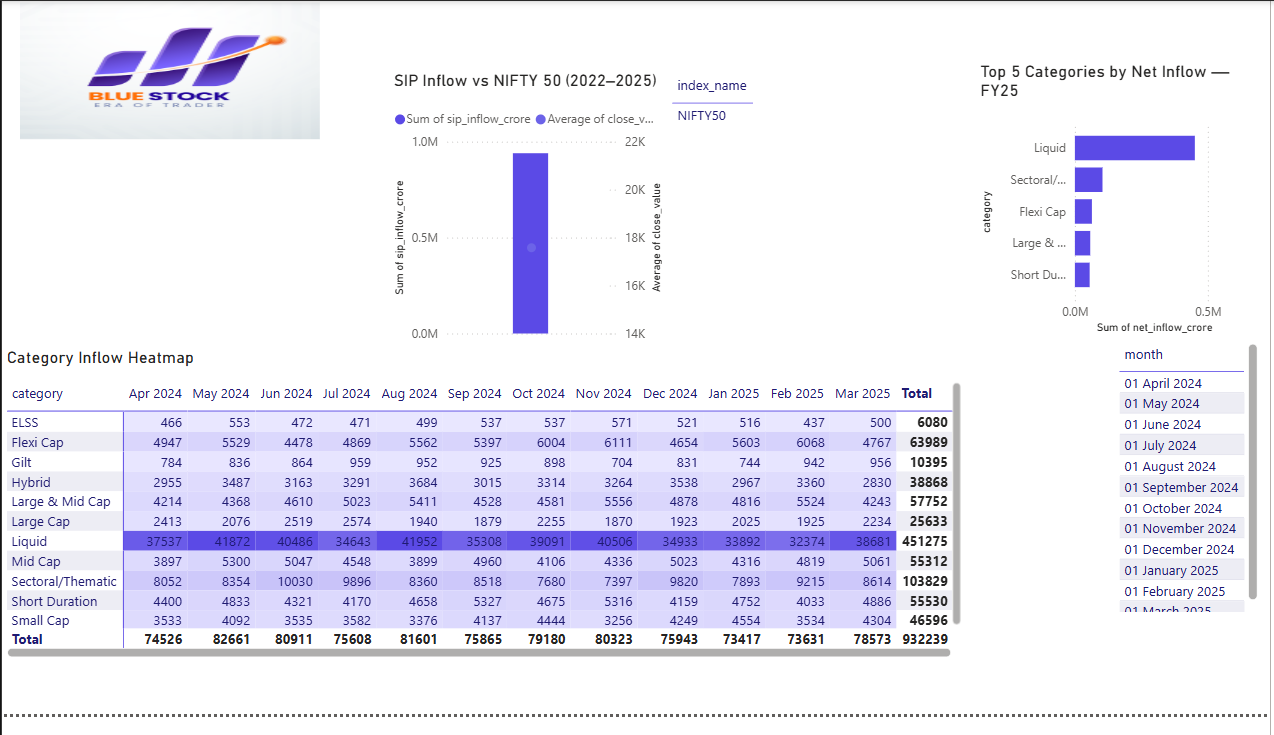

The page's visual inventory and layout, read from the dashboard file:
{"tool":"powerbi","page":{"name":"SIP & Market Trends","canvas":[1280,720],"ordinal":3},"visuals":[{"type":"lineClusteredColumnComboChart","title":"SIP Inflow vs NIFTY 50 (2022–2025)","fields":{"Y":["Sum(Monthly_SIP_Inflows.sip_inflow_crore)"],"Y2":["Avg(Benchmark_Indices.close_value)"]},"box":[390.7,69.7,280,280],"z":0},{"type":"tableEx","fields":{"Values":["Benchmark_Indices.index_name"]},"box":[670.8,69.7,149.3,68],"z":1000},{"type":"pivotTable","title":"Category Inflow Heatmap","fields":{"Columns":["DateTable.Month Year"],"Rows":["Category_Inflows.category"],"Values":["Sum(Category_Inflows.net_inflow_crore)"]},"box":[0,349.6,973.2,317.5],"z":2000},{"type":"clusteredBarChart","title":"Top 5 Categories by Net Inflow — FY25","fields":{"Category":["Category_Inflows.category"],"Y":["Sum(Category_Inflows.net_inflow_crore)"]},"box":[983,60,280,280],"z":3000},{"type":"tableEx","fields":{"Values":["Category_Inflows.month"]},"box":[1122.5,340.2,150,280],"z":4000},{"type":"image","box":[18.2,1.5,302.8,137.8],"z":4001}]}

Visuals, with their boxes in screenshot pixels (x1, y1, x2, y2), scaled from the page's 1280x720 canvas onto the 1274x735 screenshot:
"SIP Inflow vs NIFTY 50 (2022–2025)" lineClusteredColumnComboChart: bbox=(389, 71, 668, 357)
tableEx - Benchmark_Indices.index_name: bbox=(668, 71, 816, 141)
"Category Inflow Heatmap" pivotTable: bbox=(0, 357, 969, 681)
"Top 5 Categories by Net Inflow — FY25" clusteredBarChart: bbox=(978, 61, 1257, 347)
tableEx - Category_Inflows.month: bbox=(1117, 347, 1267, 633)
image: bbox=(18, 2, 319, 142)
